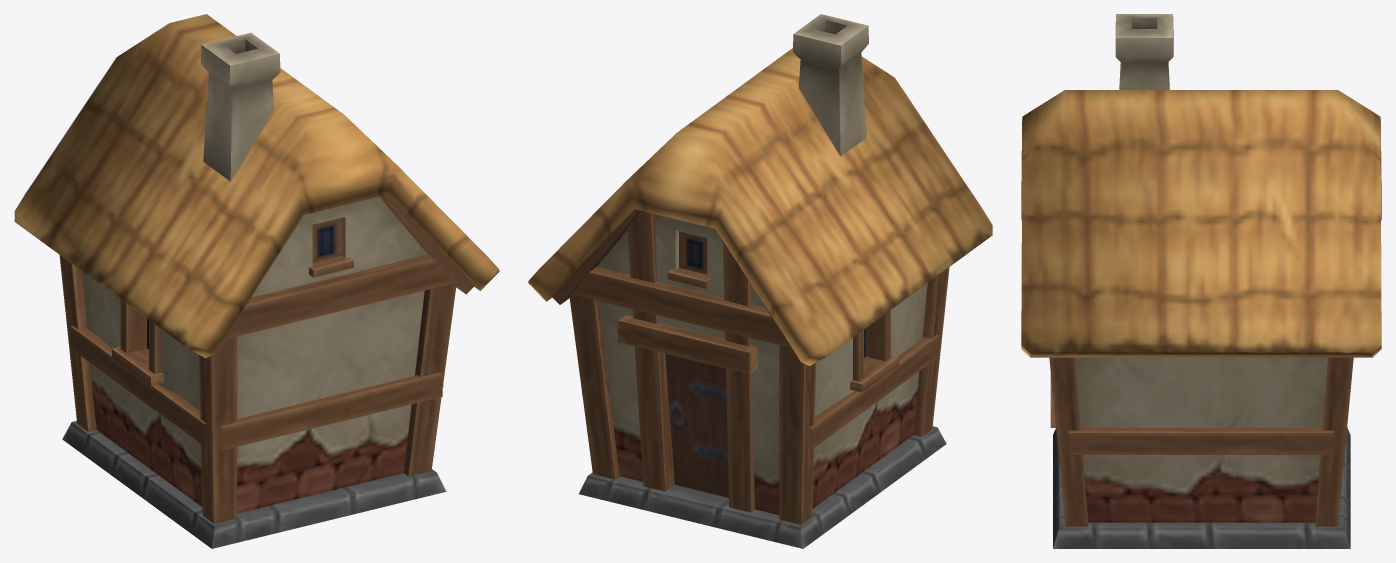
The model's file is tadangal_house_2.FBX.
3 views of the same model, side by side, from view 1: azimuth 30°, elevation 25°; view 2: azimuth 150°, elevation 25°; view 3: azimuth 270°, elevation 25° (orthographic). The views are drawn at different scales.
Parts seen in each view (by area): view 1: polySurface2254; view 2: polySurface2254; view 3: polySurface2254.
Part boxes in pixels (x1=…): polySurface2254: x1=14, y1=14, x2=499, y2=548; polySurface2254: x1=528, y1=14, x2=992, y2=548; polySurface2254: x1=1021, y1=14, x2=1381, y2=548.
Size of the model in its own units: 73.73 by 73.92 by 101.
